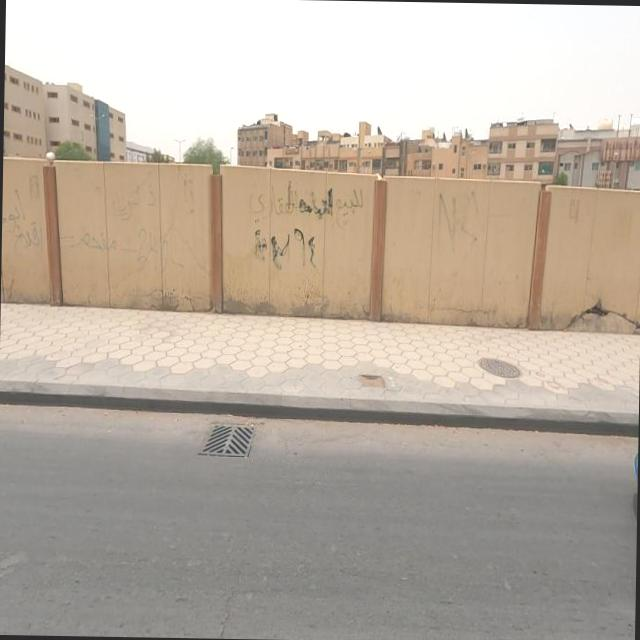debris: (0, 166, 259, 326), (192, 153, 424, 251), (204, 202, 372, 296), (406, 170, 516, 270), (1, 146, 54, 286)
